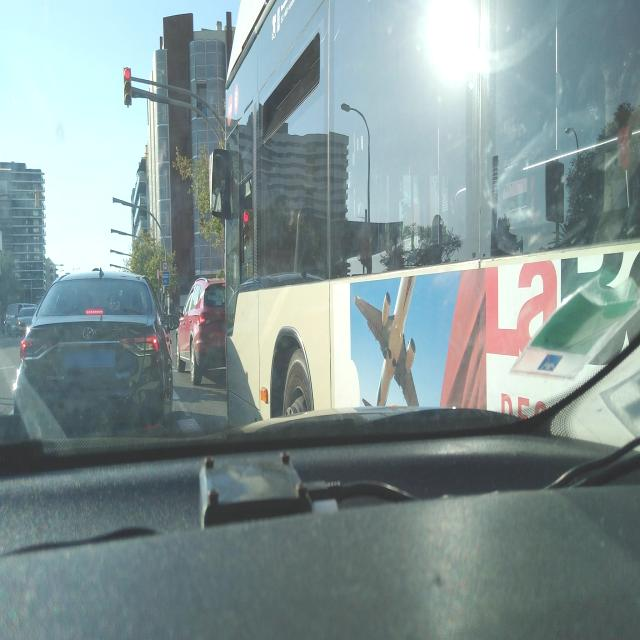car: (13, 264, 173, 440), (176, 273, 229, 386), (17, 304, 39, 338), (3, 302, 20, 336)
